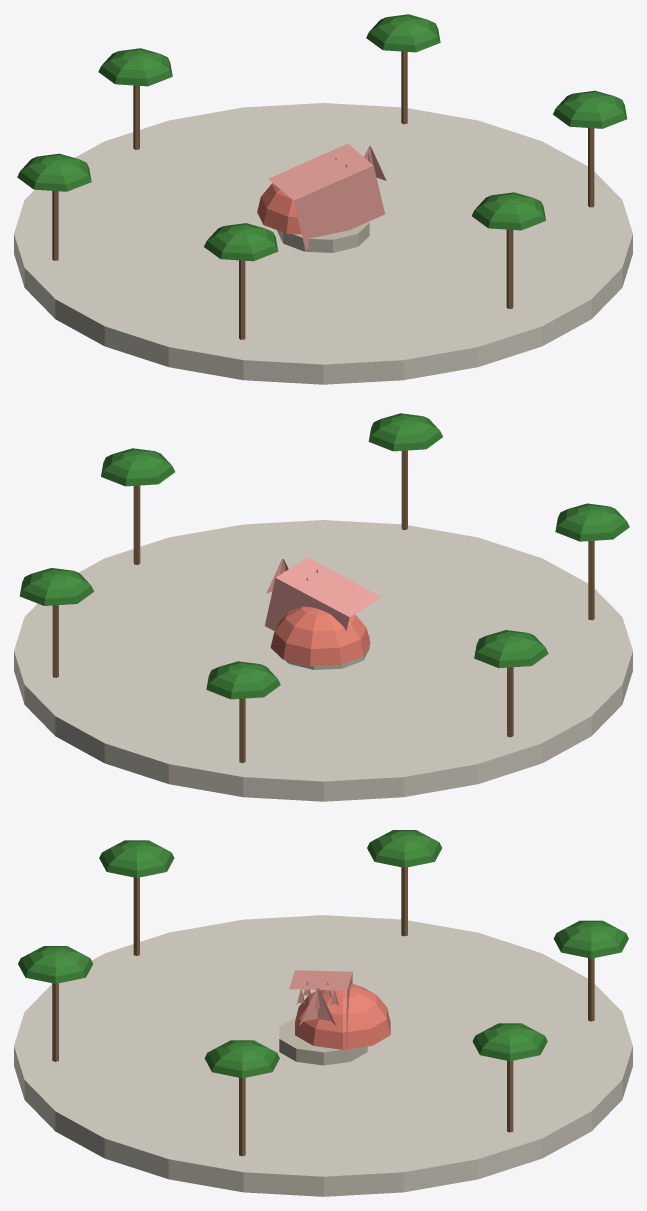
Rendered from rb_queenconch.glb.
3 renders of one model, top to bottom at view 1: azimuth 30°, elevation 25°; view 2: azimuth 150°, elevation 25°; view 3: azimuth 270°, elevation 25°, orthographic.
Parts seen in each view (by area): view 1: rb_queenconch_lod0; view 2: rb_queenconch_lod0; view 3: rb_queenconch_lod0.
Boxes of the visible parts, bbox=[...] form: rb_queenconch_lod0: bbox=[14, 14, 632, 384]; rb_queenconch_lod0: bbox=[14, 413, 632, 801]; rb_queenconch_lod0: bbox=[14, 830, 632, 1196].
Size of what is drawn, in the model's own units: 32 by 7.98 by 32.
